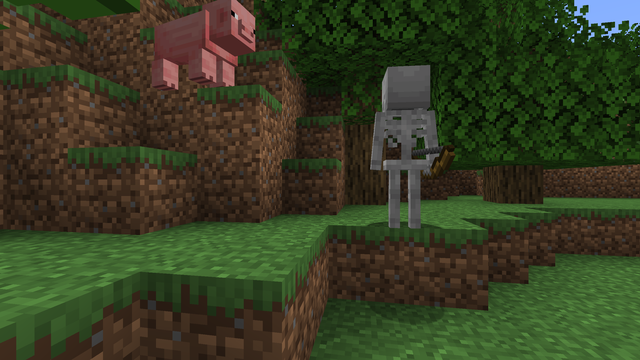cochons: (146, 5, 238, 89)
squelettes: (379, 63, 434, 232)
